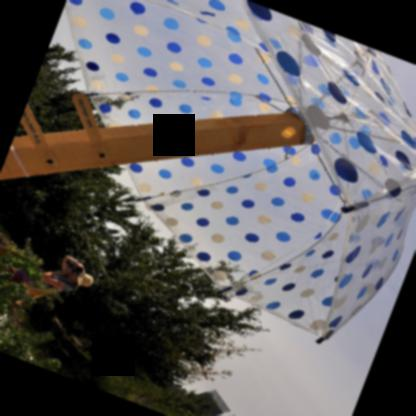handbag: (9, 284, 49, 304)
